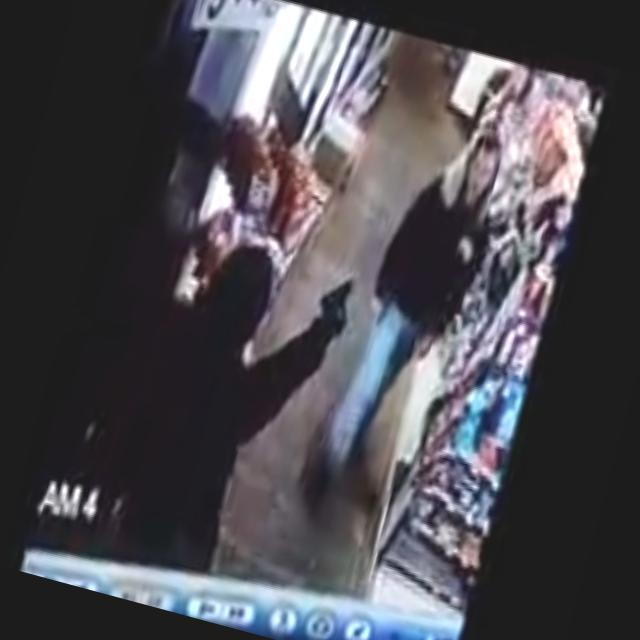handgun: (304, 264, 366, 356)
